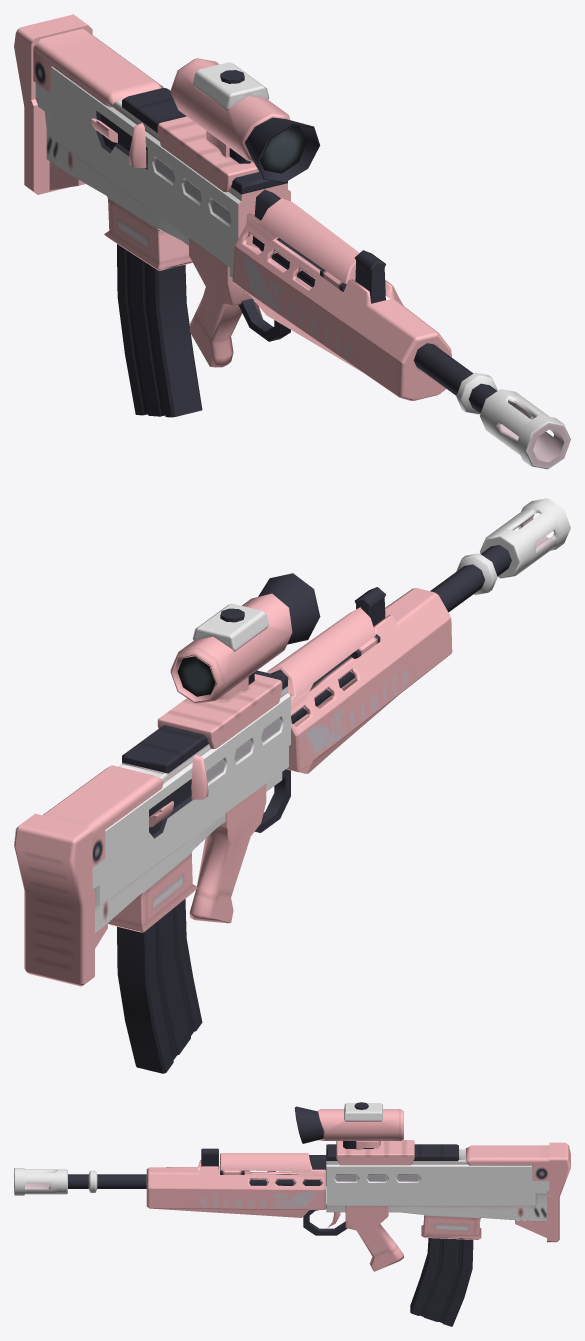
The model's file is hihumi_weapon.gltf.
3 renders of one model, top to bottom at view 1: azimuth 30°, elevation 25°; view 2: azimuth 150°, elevation 25°; view 3: azimuth 270°, elevation 25°, orthographic. The views are drawn at different scales.
Parts seen in each view (by area): view 1: OL_Hihumi_Original_Weapon_OL_Hihumi_Original_Weapon_0; view 2: OL_Hihumi_Original_Weapon_OL_Hihumi_Original_Weapon_0; view 3: OL_Hihumi_Original_Weapon_OL_Hihumi_Original_Weapon_0.
Boxes of the visible parts, left/top/right/bottom form: OL_Hihumi_Original_Weapon_OL_Hihumi_Original_Weapon_0: left=14, top=14, right=570, bottom=469; OL_Hihumi_Original_Weapon_OL_Hihumi_Original_Weapon_0: left=14, top=498, right=570, bottom=1073; OL_Hihumi_Original_Weapon_OL_Hihumi_Original_Weapon_0: left=14, top=1102, right=570, bottom=1326.
Bounding box in the file's own units: 0.0532 × 0.2803 × 0.649.
1 material, 1 textured.
